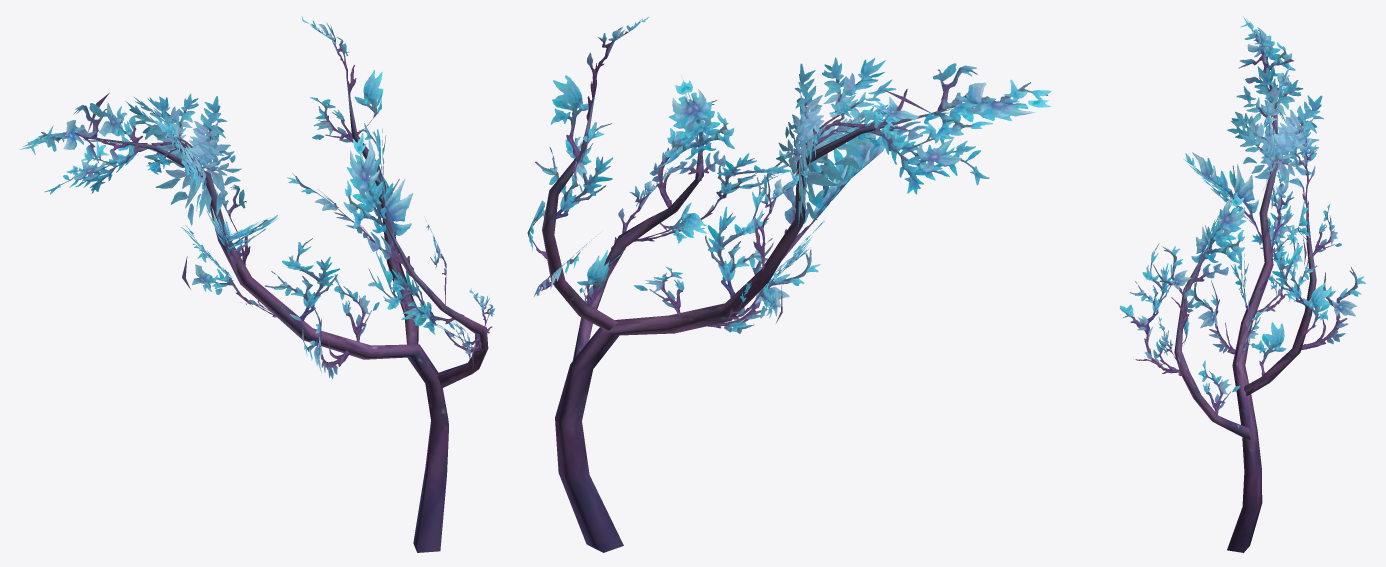
3 views of the same model, side by side, from view 1: azimuth 30°, elevation 25°; view 2: azimuth 150°, elevation 25°; view 3: azimuth 270°, elevation 25° (orthographic). The views are drawn at different scales.
Bounding box in the file's own units: 7.26 × 8.13 × 4.93.
Materials: 1 (1 with a texture image).
